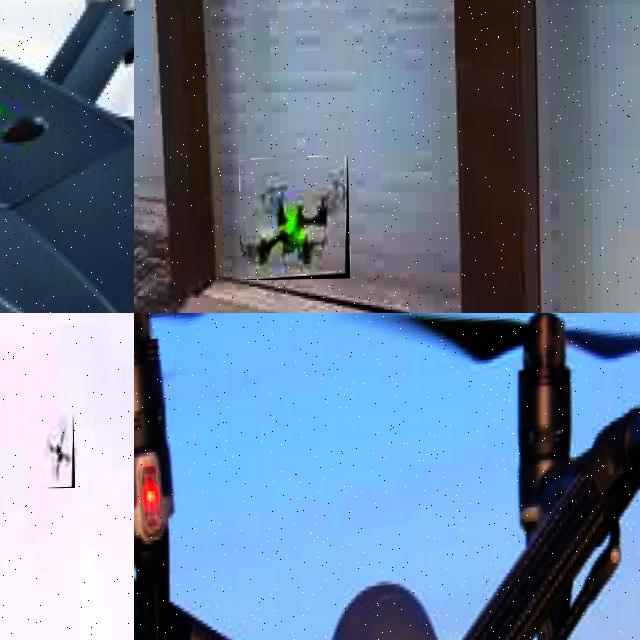drone: (134, 313, 640, 640), (0, 0, 134, 313), (240, 156, 350, 280), (44, 414, 74, 488)
